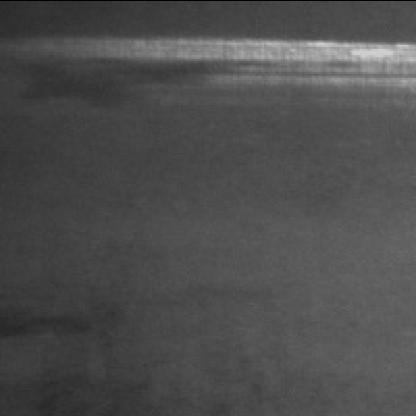inclusion: (0, 308, 87, 344)
scratches: (90, 41, 410, 92)
